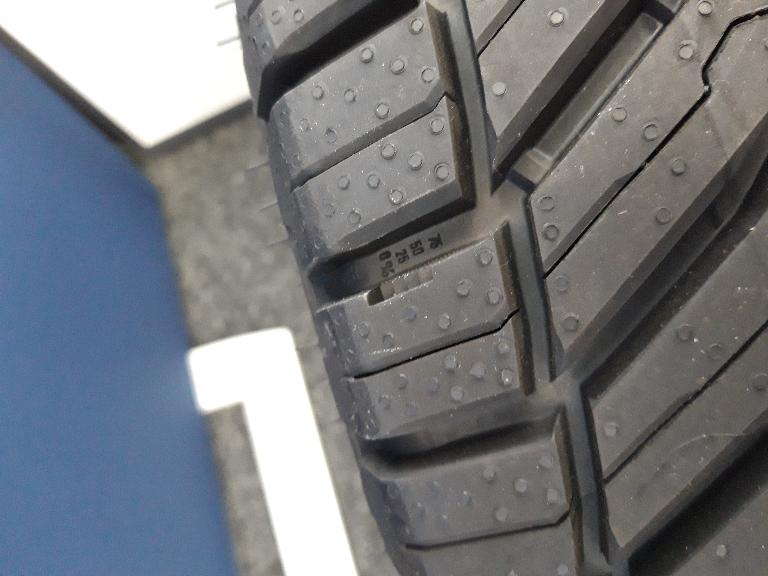temoin:100: (363, 260, 447, 309)
